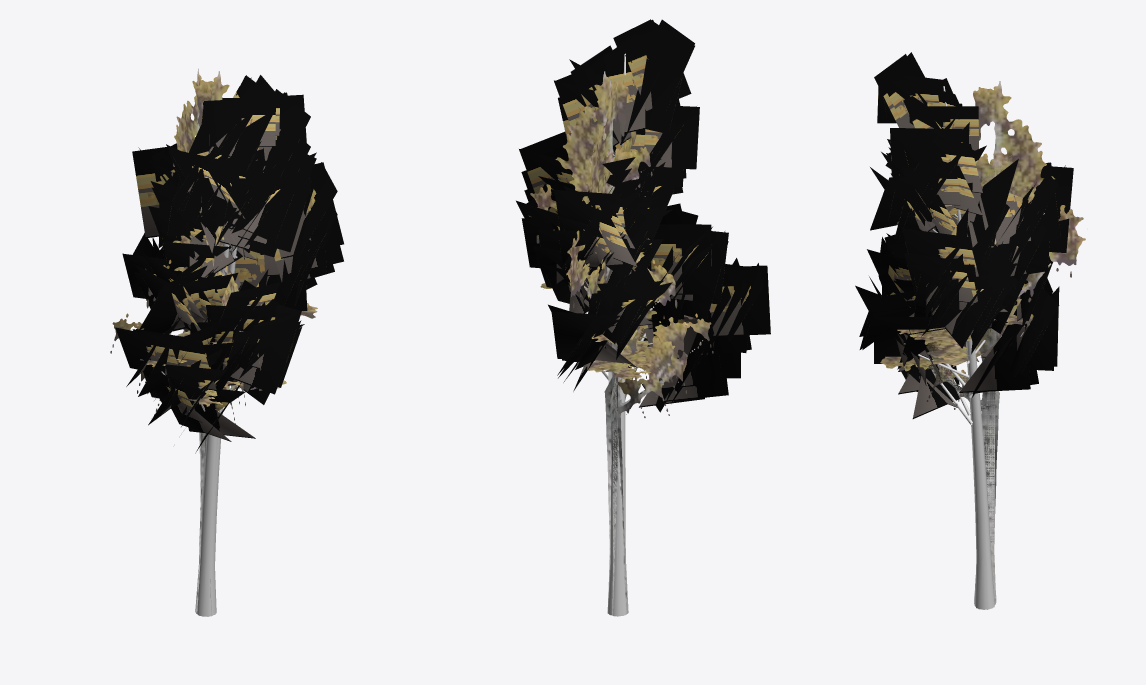
The model's file is tree-birch.glb.
3 views of the same model, side by side, from view 1: azimuth 30°, elevation 25°; view 2: azimuth 150°, elevation 25°; view 3: azimuth 270°, elevation 25° (orthographic). The views are drawn at different scales.
Parts seen in each view (by area): view 1: lod0-leaves-0, lod0-leaves-1, impostor-0, lod0-wood-0, impostor-1, lod0-wood-1; view 2: lod0-leaves-0, lod0-leaves-1, impostor-0, impostor-1, lod0-wood-0, lod0-wood-1; view 3: lod0-leaves-0, lod0-leaves-1, impostor-0, lod0-wood-1, impostor-1, lod0-wood-0.
Part boxes in pixels (box(x1,y1,x2,y2)): lod0-leaves-0: box(115, 75, 343, 425); lod0-leaves-1: box(122, 148, 317, 453); impostor-0: box(110, 68, 317, 611); lod0-wood-0: box(161, 84, 240, 616); impostor-1: box(145, 141, 286, 614); lod0-wood-1: box(196, 245, 237, 616); lod0-leaves-0: box(519, 19, 770, 393); lod0-leaves-1: box(516, 153, 751, 412); impostor-0: box(529, 71, 713, 614); impostor-1: box(576, 144, 678, 615); lod0-wood-0: box(583, 53, 645, 616); lod0-wood-1: box(601, 370, 626, 616); lod0-leaves-0: box(867, 52, 1073, 369); lod0-leaves-1: box(855, 147, 1059, 418); impostor-0: box(897, 81, 1085, 604); lod0-wood-1: box(904, 209, 1023, 609); impostor-1: box(880, 155, 1035, 604); lod0-wood-0: box(932, 86, 1044, 609).
Size of what is drawn, in the model's own units: 7.85 by 15.86 by 7.85.
4 materials, 3 textured.
